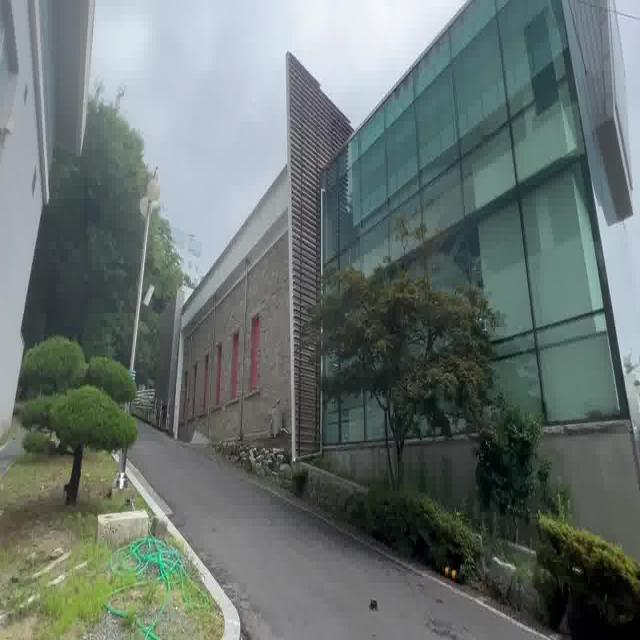building: (181, 41, 640, 456)
